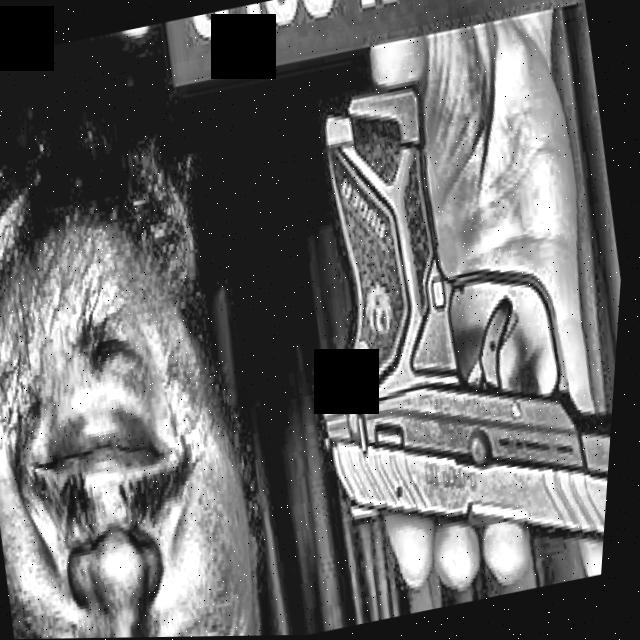Ruger: (255, 47, 637, 617)
